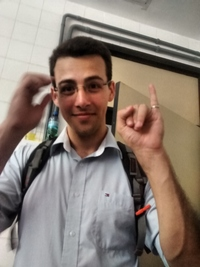oi: (117, 81, 163, 154)
